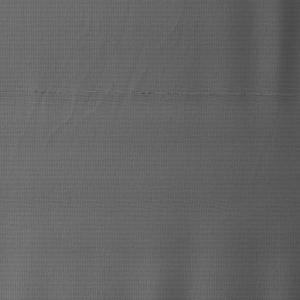Wrinkle: (192, 1, 300, 300), (3, 1, 188, 171), (48, 229, 176, 300)
